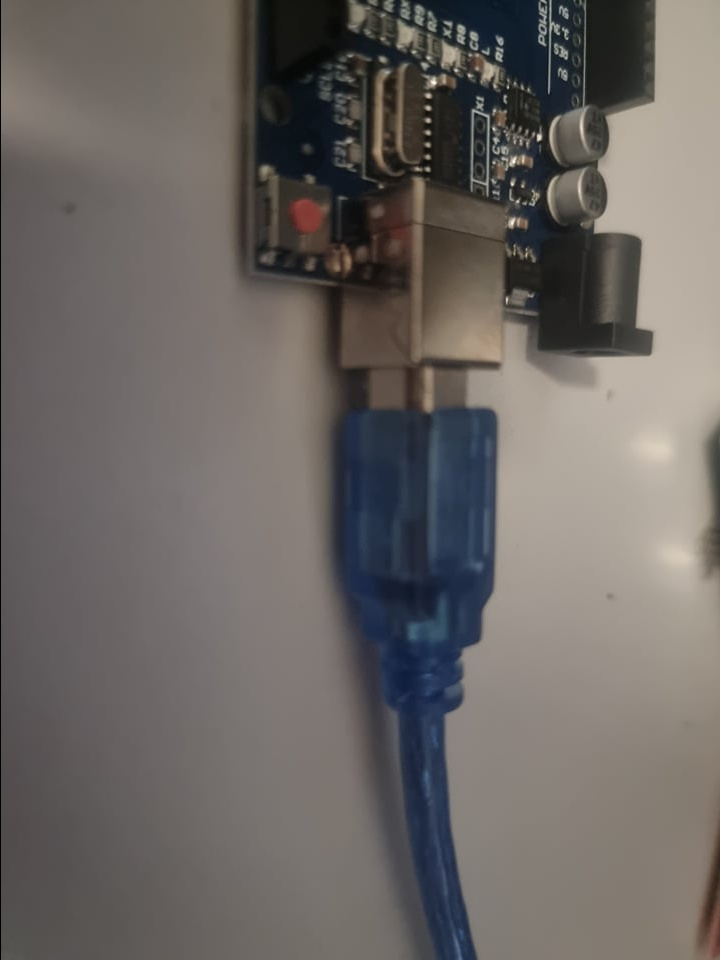UNO R3: (217, 1, 657, 373)
